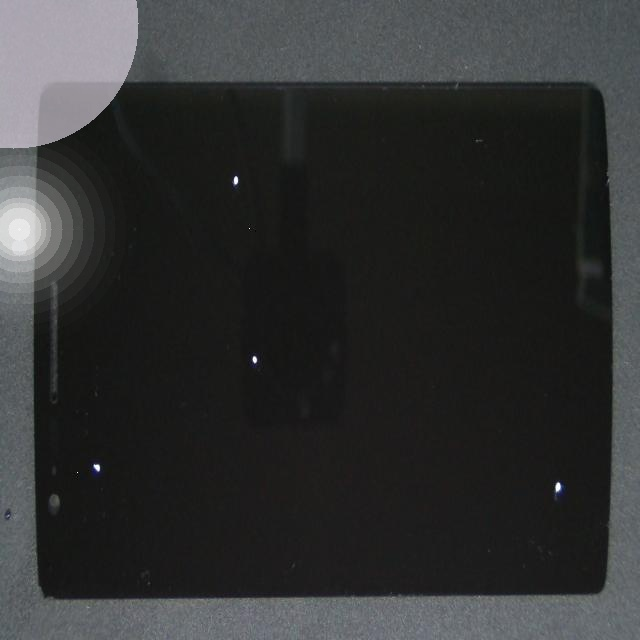stain: (261, 237, 640, 640), (114, 174, 343, 521), (100, 56, 335, 307), (33, 201, 120, 640)
